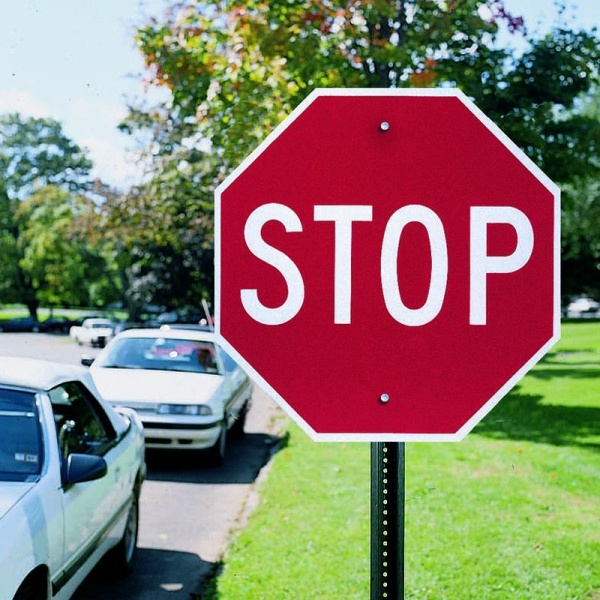stop: (210, 85, 555, 445)
